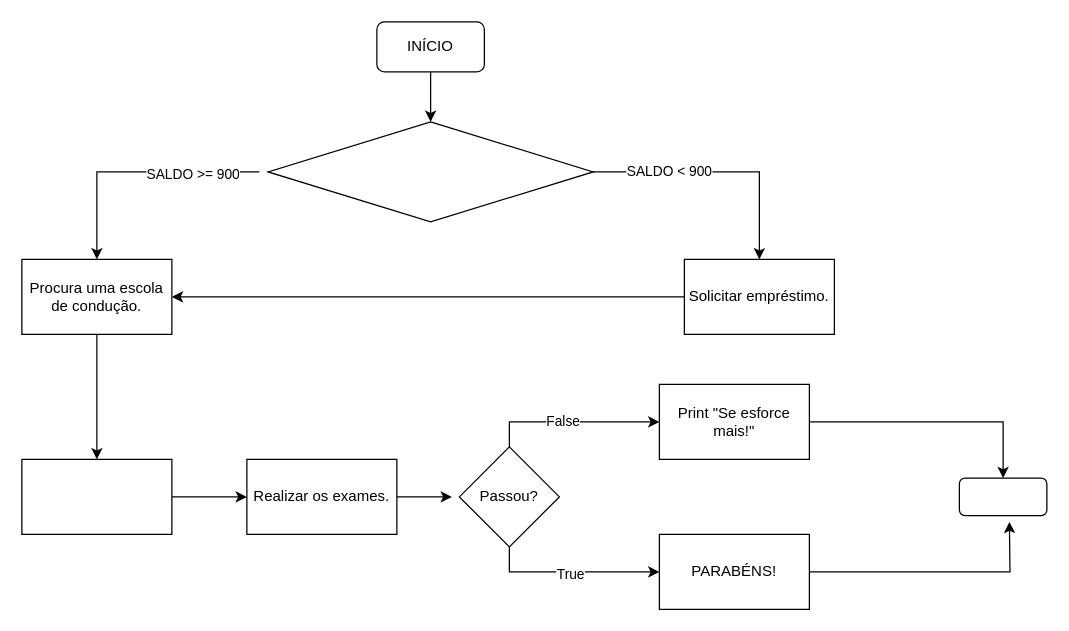
Image size: 1069x631. Some labels were removed from this diagram. The shapes that lost their labels are listed below. From the top down, each one's centre as x and y in pixels, then its label:
[430,171]: Tenho saldo para fazer a formação?
[96,496]: Começar os estudos.
[1002,496]: FIM
